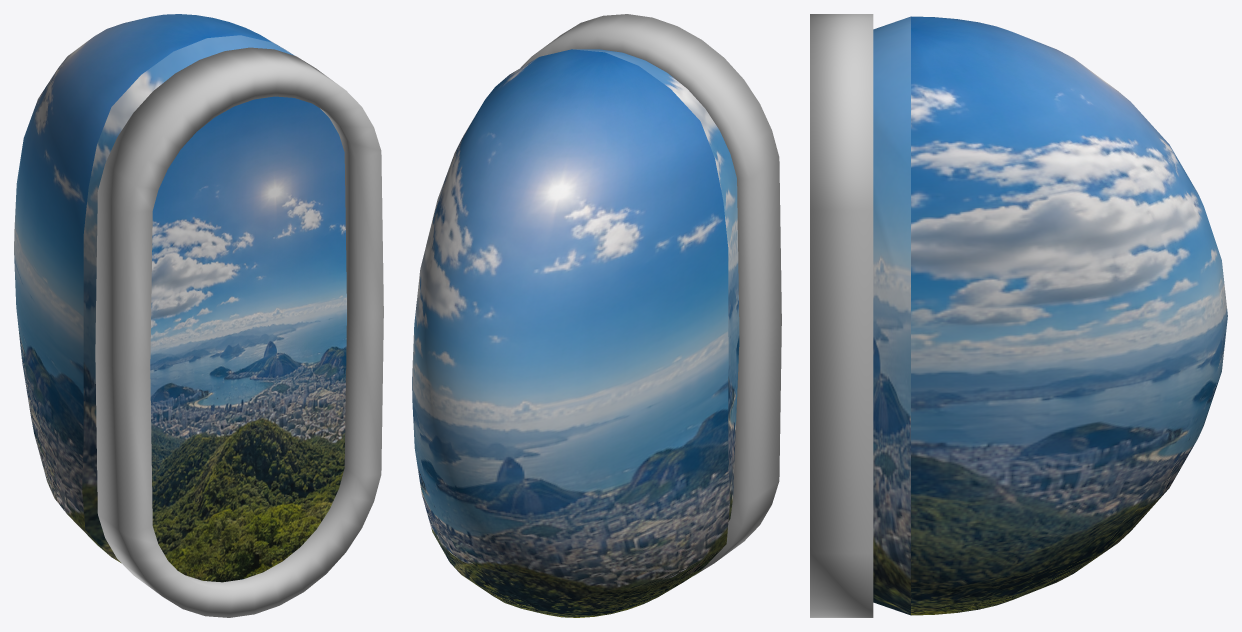
Rendered from Portal.fbx.
3 views of the same model, side by side, from view 1: azimuth 30°, elevation 25°; view 2: azimuth 150°, elevation 25°; view 3: azimuth 270°, elevation 25° (orthographic). The views are drawn at different scales.
Visible parts, largest first — view 1: FrontSky, PortalBase, DomeSky; view 2: DomeSky, PortalBase; view 3: DomeSky, PortalBase.
Boxes of the visible parts, bbox=[...] form: FrontSky: bbox=[150, 96, 346, 582]; PortalBase: bbox=[95, 47, 383, 617]; DomeSky: bbox=[14, 14, 294, 563]; DomeSky: bbox=[412, 49, 739, 617]; PortalBase: bbox=[520, 14, 781, 575]; DomeSky: bbox=[873, 16, 1227, 615]; PortalBase: bbox=[810, 14, 873, 617].
Bounding box in the file's own units: 200 × 400 × 264.
